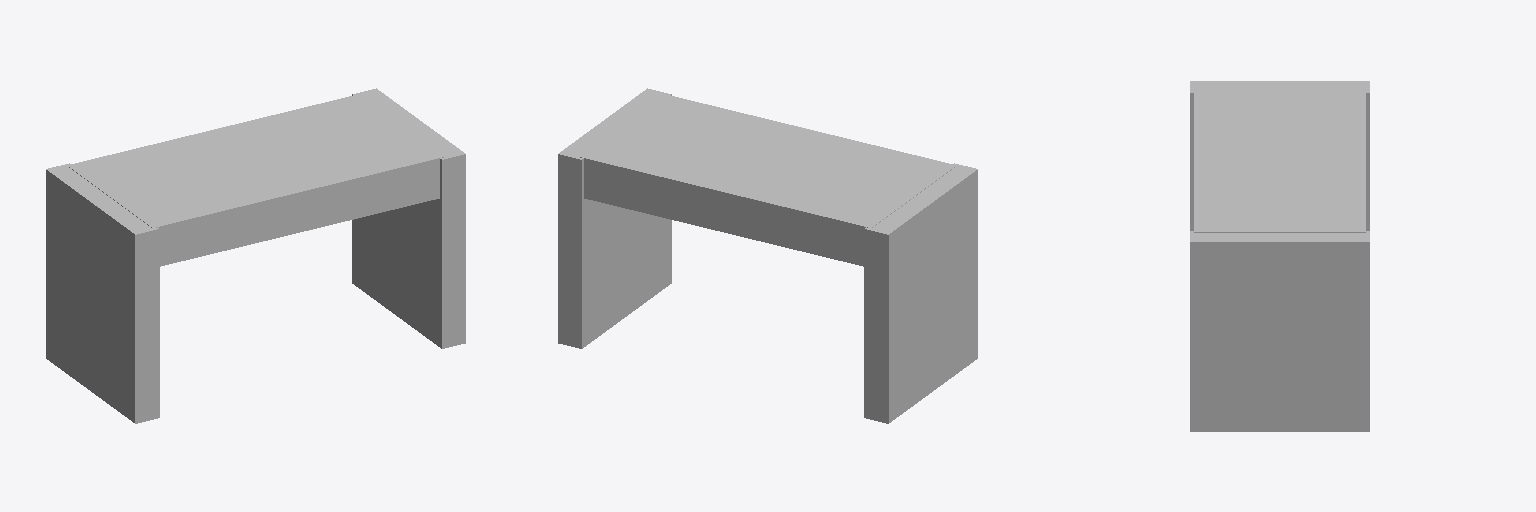
File: MesaCom.obj
3 renders of one model, left to right at view 1: azimuth 30°, elevation 25°; view 2: azimuth 150°, elevation 25°; view 3: azimuth 270°, elevation 25°, orthographic.
Visible parts, largest first — view 1: MesaCom:pCube3; view 2: MesaCom:pCube3; view 3: MesaCom:pCube3.
Boxes of the visible parts, x1=… form: MesaCom:pCube3: x1=46, y1=88, x2=465, y2=423; MesaCom:pCube3: x1=558, y1=88, x2=977, y2=423; MesaCom:pCube3: x1=1190, y1=81, x2=1369, y2=431.
Size of the model in its own units: 5.89 by 3.23 by 2.76.